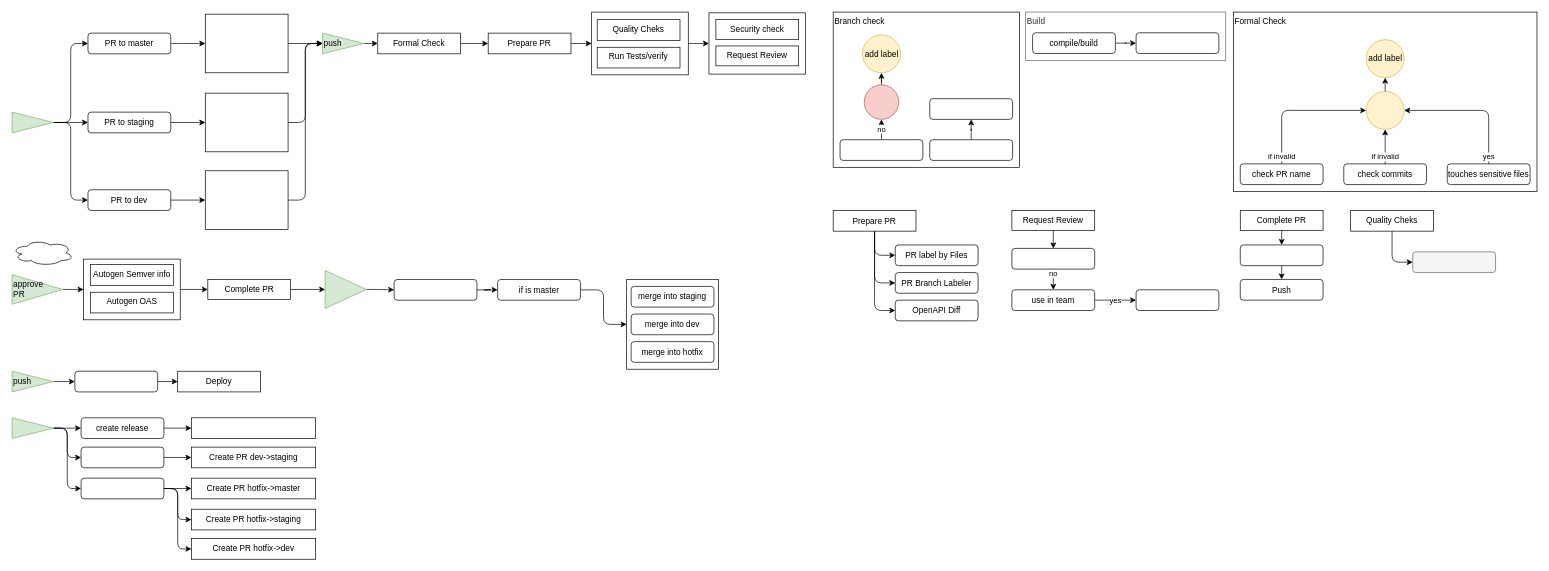
Image size: 1549x571. Some labels were removed from this diagram. Each missing label, with the centre of its shape:
Add "ready for merge": pixel 1281 255
add comment: pixel 1385 110
apply hotfix: pixel 122 488
appreciate welp :): pixel 971 108
Branch Check: - feat/* - bugfix/* - hotfix -FROM FORK: pixel 246 199
Branch Check: - hotfix - dev: pixel 246 122
Branch Check: - hotfix - documentation - staging: pixel 246 43
close PR: pixel 881 101
Code Inspector GitHub action: pixel 1454 262
create: pixel 32 122
Create PR staging->master: pixel 253 427
create prerelease: pixel 122 457
First interaction: pixel 971 149
generate OAS: pixel 1177 42
is from allowed branch: pixel 881 149
is ready for merge: pixel 1053 258
link: pixel 42 252
manual: pixel 32 427
master, staging, dev: pixel 116 381
merge: pixel 435 289
Pull Request Stats: pixel 1177 299
tagged ready: pixel 345 289
